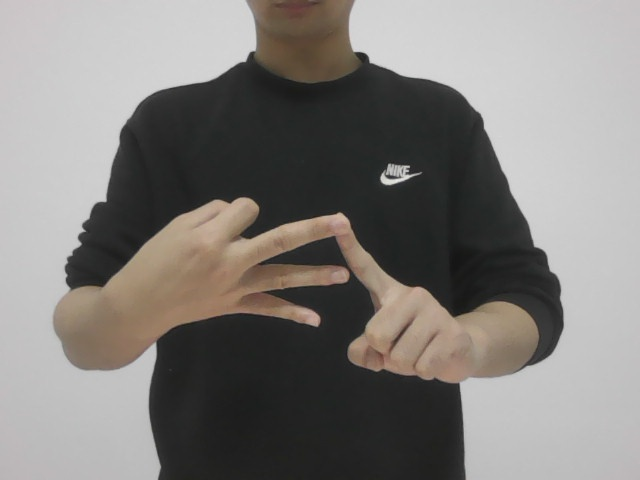name: (144, 195, 484, 406)
